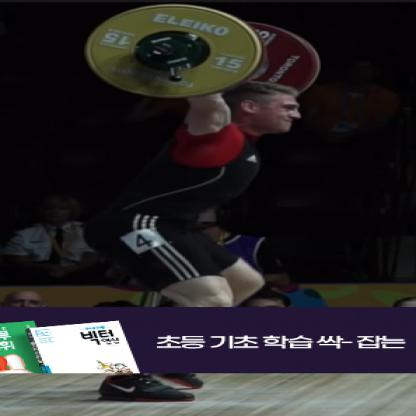Barbell: (84, 2, 269, 102)
